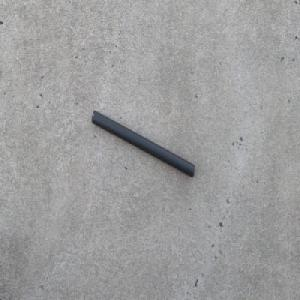LuggagePart: (90, 107, 195, 177)
